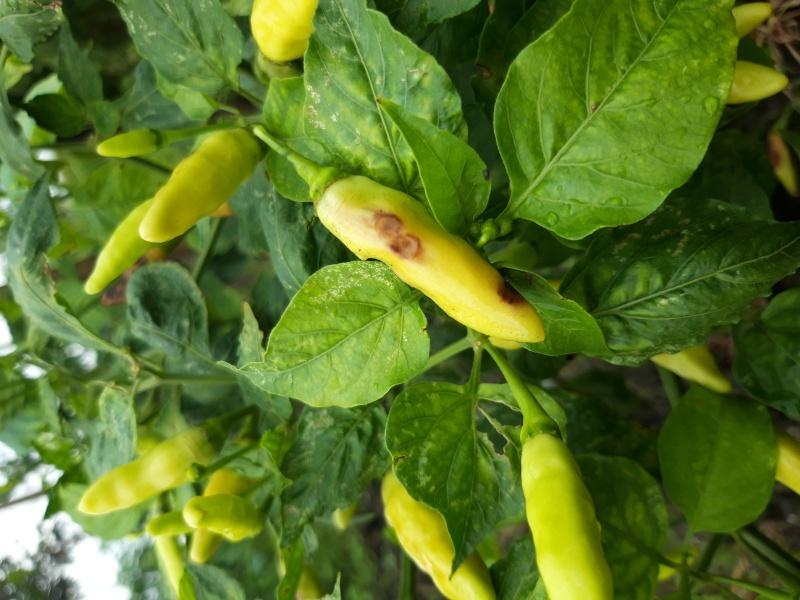antraknosa: (314, 168, 547, 348)
cabai_normal: (517, 436, 618, 600), (136, 126, 272, 247), (378, 465, 498, 600), (83, 200, 215, 296), (75, 436, 202, 514), (181, 493, 266, 543)
